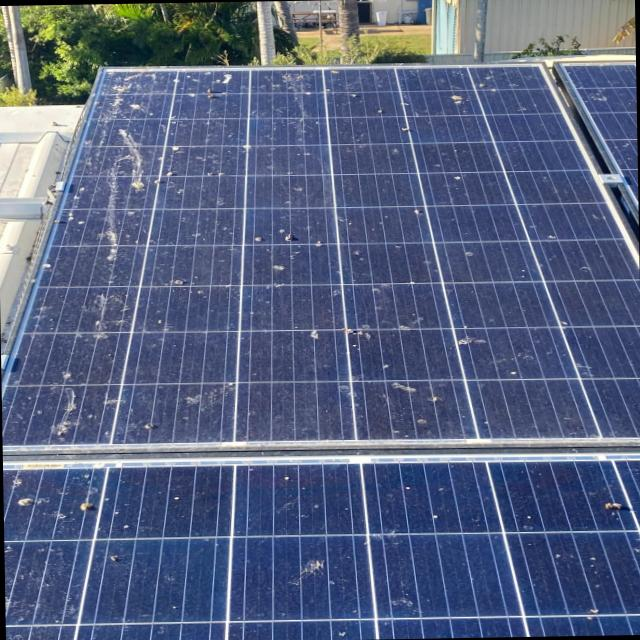faulty: (1, 70, 640, 640)
